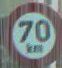Speed limit: (7, 3, 54, 62)
